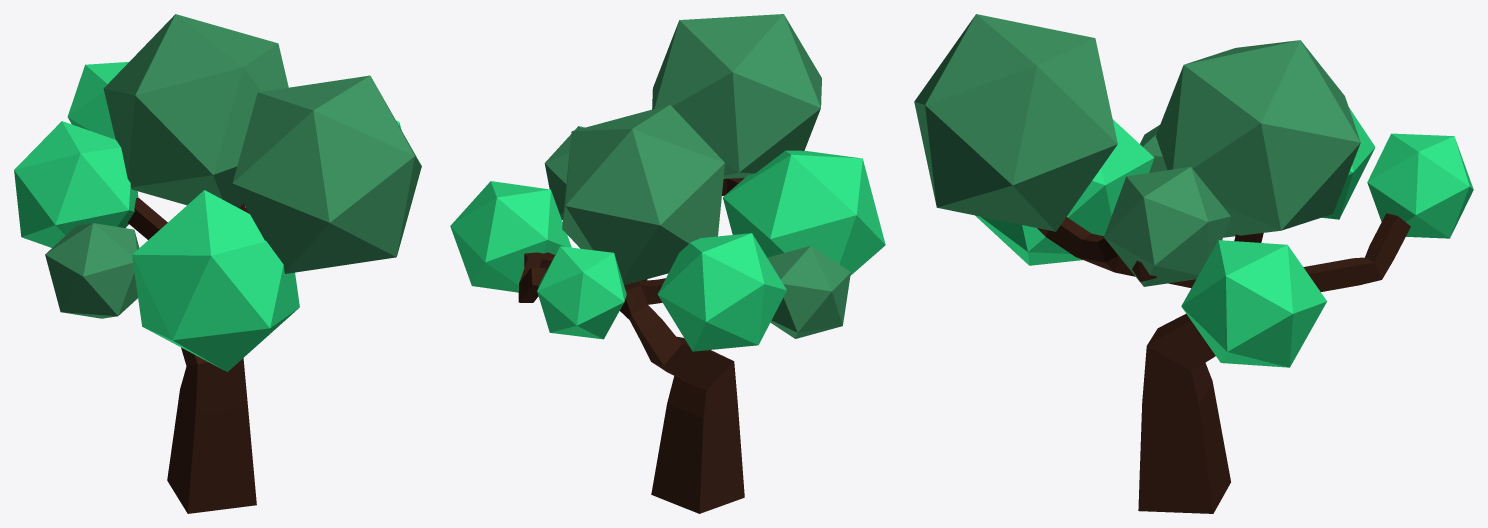
The model's file is Puno.fbx.
The picture shows the model from 3 angles, left to right: view 1: azimuth 30°, elevation 25°; view 2: azimuth 150°, elevation 25°; view 3: azimuth 270°, elevation 25°; orthographic projection. The views are drawn at different scales.
Visible parts, largest first — view 1: Icosphere.004, Cube; view 2: Icosphere.004, Cube; view 3: Icosphere.004, Cube.
Boxes of the visible parts, <box> form: Icosphere.004: <box>14,14,421,371</box>; Cube: <box>128,197,256,513</box>; Icosphere.004: <box>450,14,885,351</box>; Cube: <box>518,178,744,513</box>; Icosphere.004: <box>914,14,1473,367</box>; Cube: <box>1037,213,1410,513</box>.
Size of the model in its own units: 1248 by 1431 by 1490.
